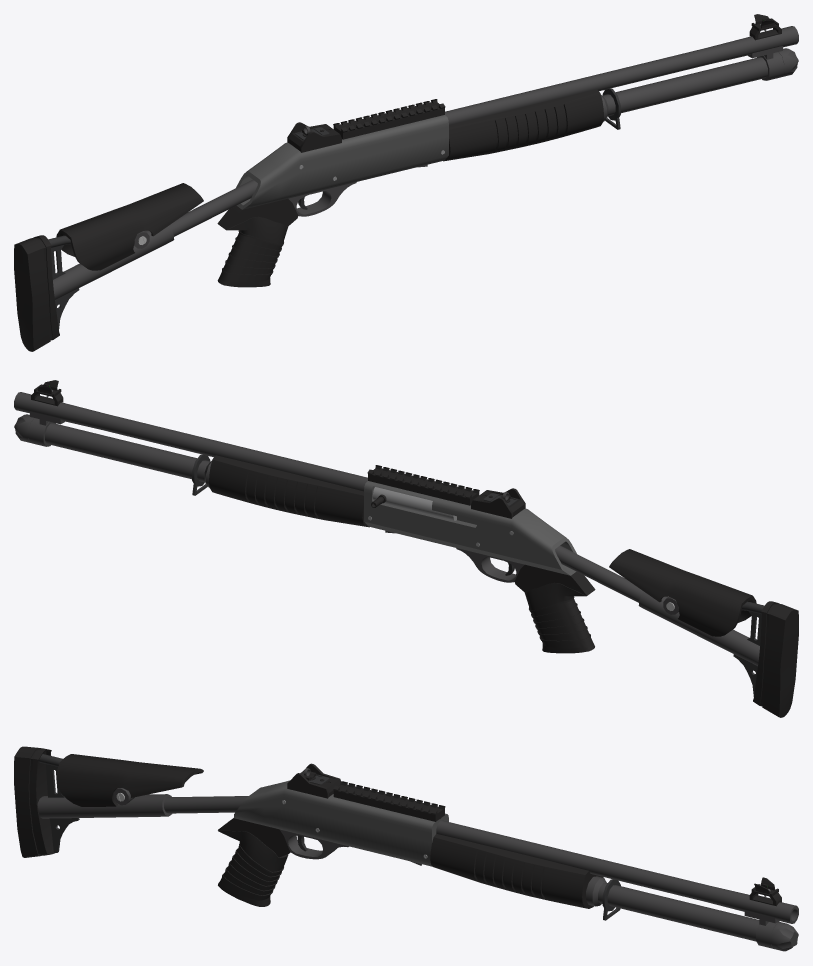
Rendered from Benelli_M4_Mesh.fbx.
The picture shows the model from 3 angles, top to bottom: view 1: azimuth 30°, elevation 25°; view 2: azimuth 150°, elevation 25°; view 3: azimuth 330°, elevation 25°; orthographic projection.
Visible parts, largest first — view 1: Benelli_M4; view 2: Benelli_M4; view 3: Benelli_M4.
Part boxes in pixels (<box>): Benelli_M4: <box>14,14,798,351</box>; Benelli_M4: <box>14,380,798,717</box>; Benelli_M4: <box>14,746,798,951</box>.
Bounding box in the file's own units: 1.01 × 0.195 × 0.0673.
